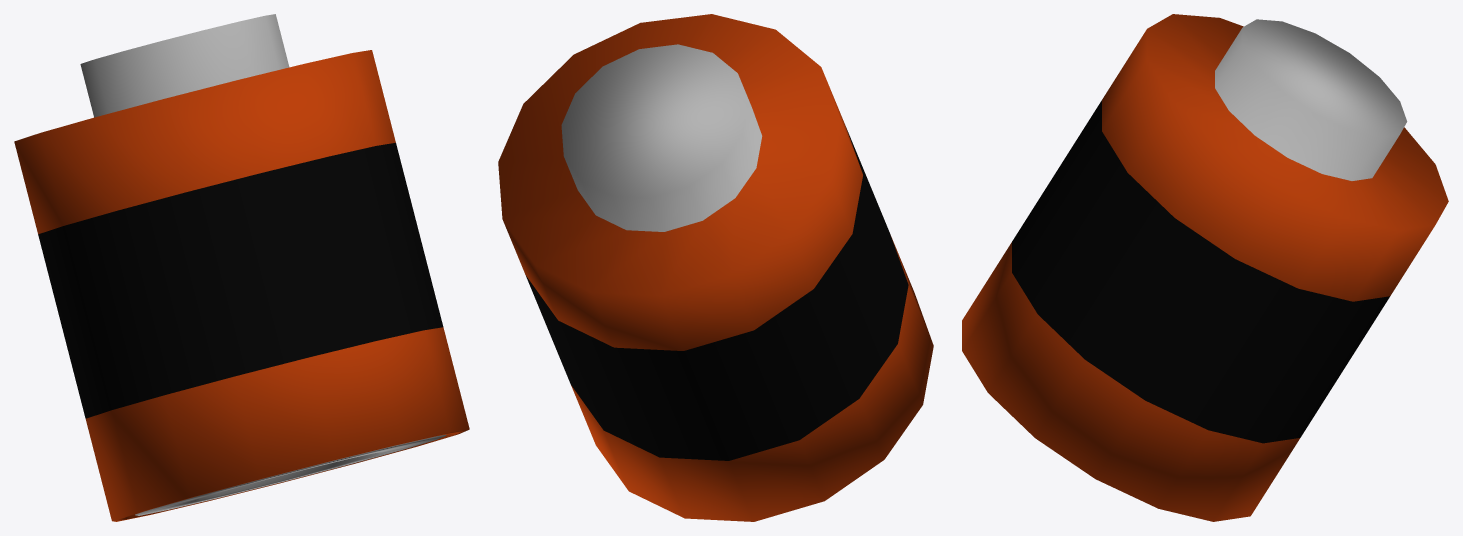
The model's file is battery.fbx.
3 renders of one model, left to right at view 1: azimuth 30°, elevation 25°; view 2: azimuth 150°, elevation 25°; view 3: azimuth 270°, elevation 25°, orthographic. The views are drawn at different scales.
Visible parts, largest first — view 1: Cylinder; view 2: Cylinder; view 3: Cylinder.
Boxes of the visible parts, x1,y1,x2,y2 form: Cylinder: (14,14,469,521); Cylinder: (498,14,933,521); Cylinder: (962,14,1448,521).
Size of the model in its own units: 4.4 by 6.35 by 6.12.
